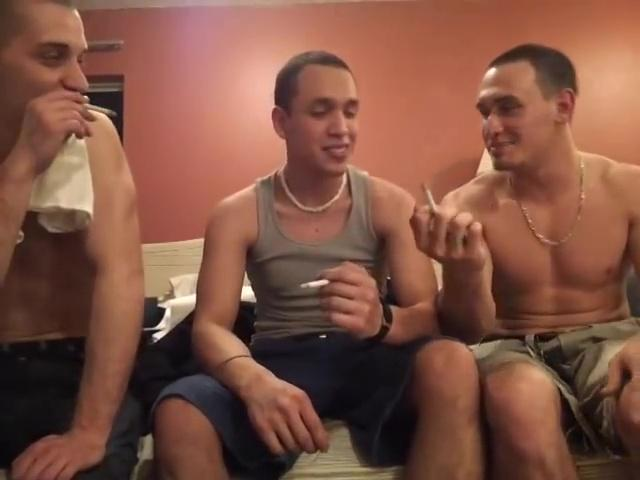cigarette: (419, 176, 442, 216), (81, 101, 121, 116), (299, 280, 330, 291)
